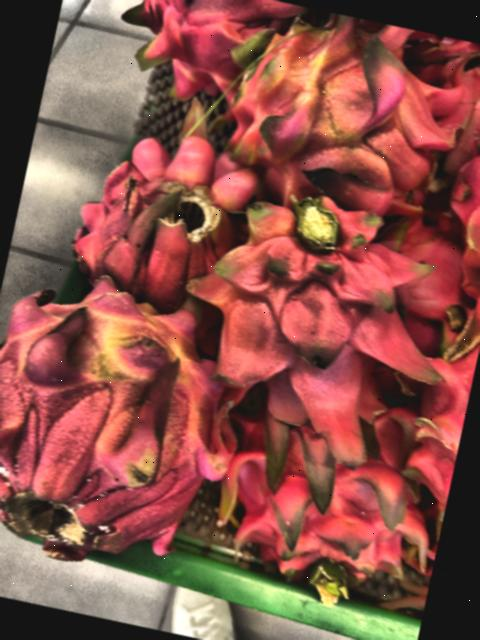buah-naga-belum-matang: (0, 267, 239, 584), (194, 181, 460, 457), (199, 7, 457, 230)
buah-naga-matang: (206, 392, 442, 601), (58, 108, 263, 316)
